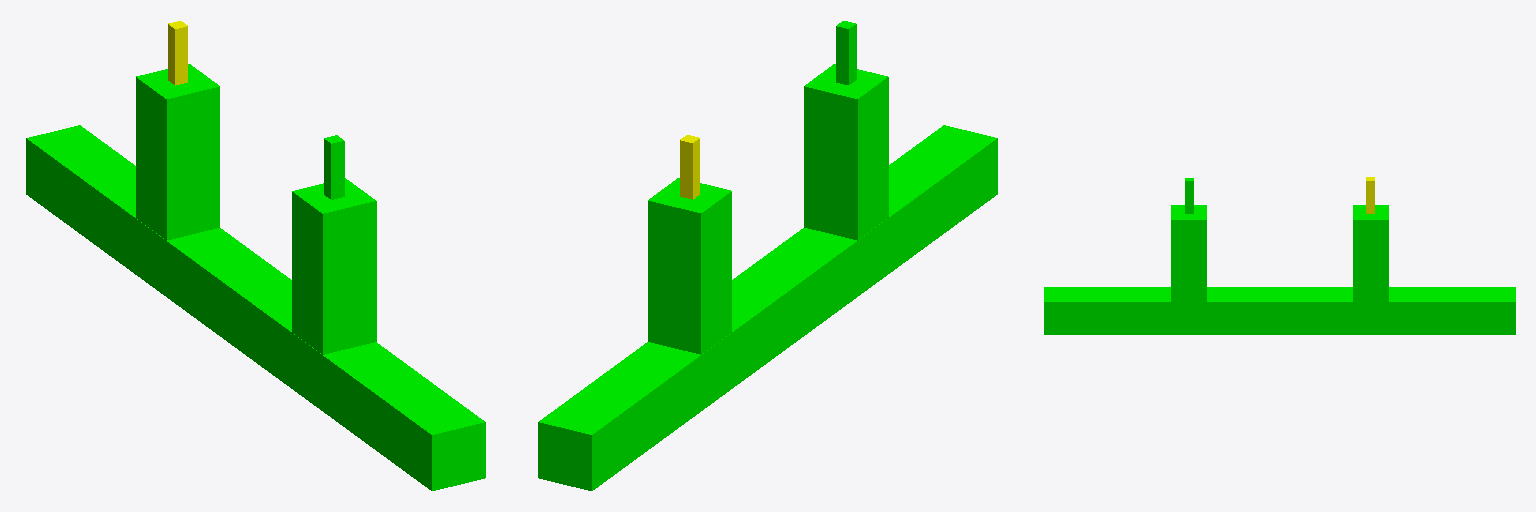
The robot description file, URDF, robot "simple_sliders1":
<?xml version="1.0"?>
<!-- created with Phobos 1.0.1 "Capricious Choutengan" -->
  <robot name="simple_sliders1">

    <link name="base_link">
    </link>

    <link name="goal">
      <visual name="visual_box_0_link_0.001">
        <origin xyz="0 0 0" rpy="0 0 0"/>
        <geometry>
          <box size="1.5974 0.1988 0.1988"/>
        </geometry>
        <material name="green_translucent"/>
      </visual>
    </link>

    <link name="link_0_joint_0">
      <visual name="visual_box_0_link_0">
        <origin xyz="0 0 0" rpy="0 0 0"/>
        <geometry>
          <box size="1.599 0.199 0.199"/>
        </geometry>
        <material name="green"/>
      </visual>
      <collision name="collision_box_0_link_0">
        <origin xyz="0 0 0" rpy="0 0 0"/>
        <geometry>
          <box size="1.599 0.199 0.199"/>
        </geometry>
      </collision>
    </link>

    <link name="link_fixed_1_handle_shaft">
      <visual name="visual_box_fixed_1_handle_shaft">
        <origin xyz="0 0 0" rpy="0 0 0"/>
        <geometry>
          <box size="0.199 0.199 0.499"/>
        </geometry>
        <material name="green"/>
      </visual>
      <collision name="collision_box_fixed_1_handle_shaft">
        <origin xyz="0 0 0" rpy="0 0 0"/>
        <geometry>
          <box size="0.199 0.199 0.499"/>
        </geometry>
      </collision>
    </link>

    <link name="link_fixed_1_handle_shaft.001">
      <visual name="visual_box_fixed_1_handle_shaft.001">
        <origin xyz="0 0 0" rpy="0 0 0"/>
        <geometry>
          <box size="0.1988 0.1988 0.4985"/>
        </geometry>
        <material name="green_translucent"/>
      </visual>
    </link>

    <link name="link_fixed_2_handle_knob">
      <visual name="visual_box_fixed_2_handle_knob">
        <origin xyz="0 0 0" rpy="0 0 0"/>
        <geometry>
          <box size="0.049 0.049 0.199"/>
        </geometry>
        <material name="yellow"/>
      </visual>
      <collision name="collision_box_fixed_2_handle_knob">
        <origin xyz="0 0 0" rpy="0 0 0"/>
        <geometry>
          <box size="0.049 0.049 0.199"/>
        </geometry>
      </collision>
    </link>

    <link name="link_fixed_2_handle_knob.001">
      <visual name="visual_box_fixed_2_handle_knob.001">
        <origin xyz="0 0 0" rpy="0 0 0"/>
        <geometry>
          <box size="0.04895 0.04895 0.1988"/>
        </geometry>
        <material name="green_translucent"/>
      </visual>
    </link>

    <joint name="goal" type="fixed">
      <origin xyz="0 -1.0 0.1" rpy="0 0 -1.5708"/>
      <parent link="base_link"/>
      <child link="goal"/>
      <limit effort="0" velocity="0"/>
    </joint>

    <joint name="link_0_joint_0" type="prismatic">
      <origin xyz="0 0 0.1" rpy="0 0 -1.5708"/>
      <parent link="base_link"/>
      <child link="link_0_joint_0"/>
      <axis xyz="1.0 0 0"/>
      <limit lower="0" upper="1.0" effort="0" velocity="0"/>
    </joint>

    <joint name="link_fixed_1_handle_shaft" type="fixed">
      <origin xyz="0 0 0.35" rpy="0 0 0"/>
      <parent link="link_0_joint_0"/>
      <child link="link_fixed_1_handle_shaft"/>
    </joint>

    <joint name="link_fixed_1_handle_shaft.001" type="fixed">
      <origin xyz="0 0 0.34965" rpy="0 0 0"/>
      <parent link="goal"/>
      <child link="link_fixed_1_handle_shaft.001"/>
    </joint>

    <joint name="link_fixed_2_handle_knob" type="fixed">
      <origin xyz="0 0 0.35" rpy="0 0 0"/>
      <parent link="link_fixed_1_handle_shaft"/>
      <child link="link_fixed_2_handle_knob"/>
    </joint>

    <joint name="link_fixed_2_handle_knob.001" type="fixed">
      <origin xyz="0 0 0.34965" rpy="0 0 0"/>
      <parent link="link_fixed_1_handle_shaft.001"/>
      <child link="link_fixed_2_handle_knob.001"/>
    </joint>

    <material name="green">
      <color rgba="0 1.0 0 1.0"/>
    </material>

    <material name="green_translucent">
      <color rgba="0 1.0 0 0.25"/>
    </material>

    <material name="yellow">
      <color rgba="1.0 1.0 0 1.0"/>
    </material>

  </robot>

--- Render facts (derived) ---
Views: 3 orthographic renders of the robot side by side, from view 1: azimuth 30°, elevation 25°; view 2: azimuth 150°, elevation 25°; view 3: azimuth 270°, elevation 25°.
Robot: simple_sliders1 — 7 links, 6 joints (1 prismatic, 5 fixed); root link base_link; default pose: all joints at 0.
Links seen in each view (by area): view 1: link_0_joint_0, goal, link_fixed_1_handle_shaft.001, link_fixed_1_handle_shaft, link_fixed_2_handle_knob.001, link_fixed_2_handle_knob; view 2: link_0_joint_0, goal, link_fixed_1_handle_shaft.001, link_fixed_1_handle_shaft, link_fixed_2_handle_knob.001, link_fixed_2_handle_knob; view 3: link_0_joint_0, goal, link_fixed_1_handle_shaft, link_fixed_1_handle_shaft.001.
Link boxes in pixels (bbox=[...]): link_0_joint_0: bbox=[26, 125, 291, 376]; goal: bbox=[276, 317, 485, 490]; link_fixed_1_handle_shaft.001: bbox=[292, 178, 376, 354]; link_fixed_1_handle_shaft: bbox=[136, 64, 219, 240]; link_fixed_2_handle_knob.001: bbox=[324, 135, 344, 199]; link_fixed_2_handle_knob: bbox=[168, 21, 187, 85]; link_0_joint_0: bbox=[538, 239, 841, 490]; goal: bbox=[789, 125, 997, 307]; link_fixed_1_handle_shaft.001: bbox=[804, 64, 888, 240]; link_fixed_1_handle_shaft: bbox=[648, 178, 731, 354]; link_fixed_2_handle_knob.001: bbox=[836, 21, 856, 84]; link_fixed_2_handle_knob: bbox=[680, 135, 699, 199]; link_0_joint_0: bbox=[1226, 287, 1515, 334]; goal: bbox=[1044, 287, 1225, 334]; link_fixed_1_handle_shaft: bbox=[1353, 205, 1388, 301]; link_fixed_1_handle_shaft.001: bbox=[1171, 205, 1206, 301].
Size in the robot's own frame: 0.199 by 2.6 by 0.899 metres.
Geometry: primitives only (box / cylinder / sphere), no mesh files.